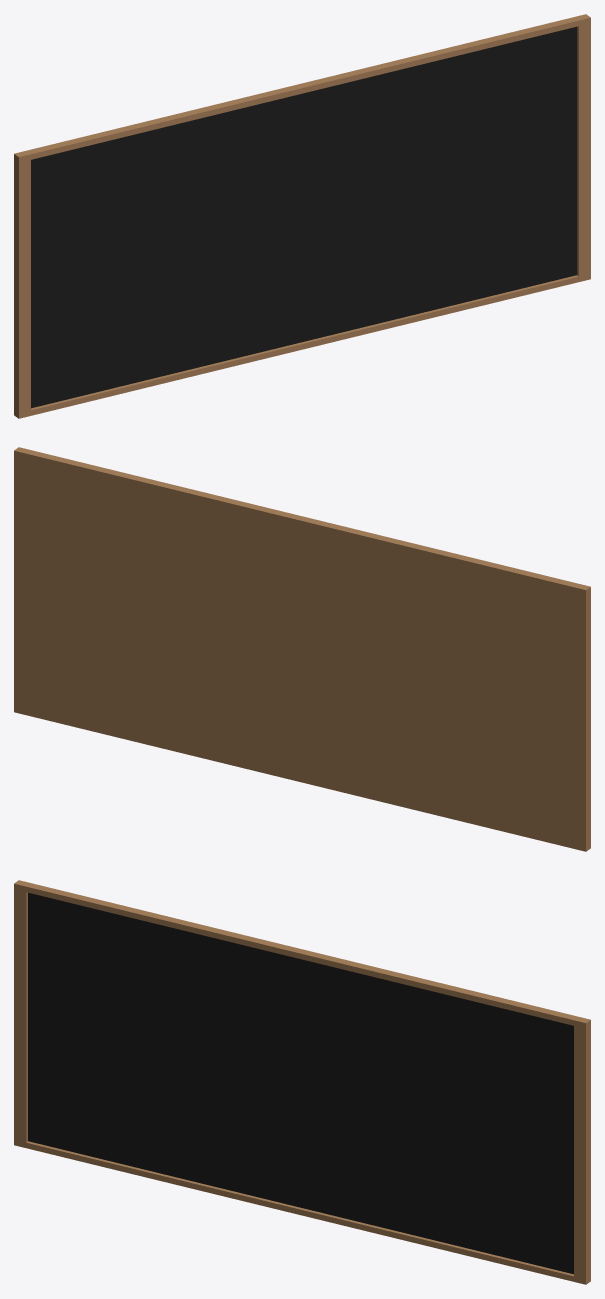
Rendered from Board.fbx.
3 views of the same model, one above another, from view 1: azimuth 30°, elevation 25°; view 2: azimuth 150°, elevation 25°; view 3: azimuth 330°, elevation 25° (orthographic).
Parts seen in each view (by area): view 1: Cube.004; view 2: Cube.004; view 3: Cube.004.
Boxes of the visible parts, left/top/right/bottom form: Cube.004: left=14, top=14, right=590, bottom=418; Cube.004: left=14, top=447, right=590, bottom=851; Cube.004: left=14, top=880, right=590, bottom=1284.
Bounding box in the file's own units: 286 × 125 × 4.2.
